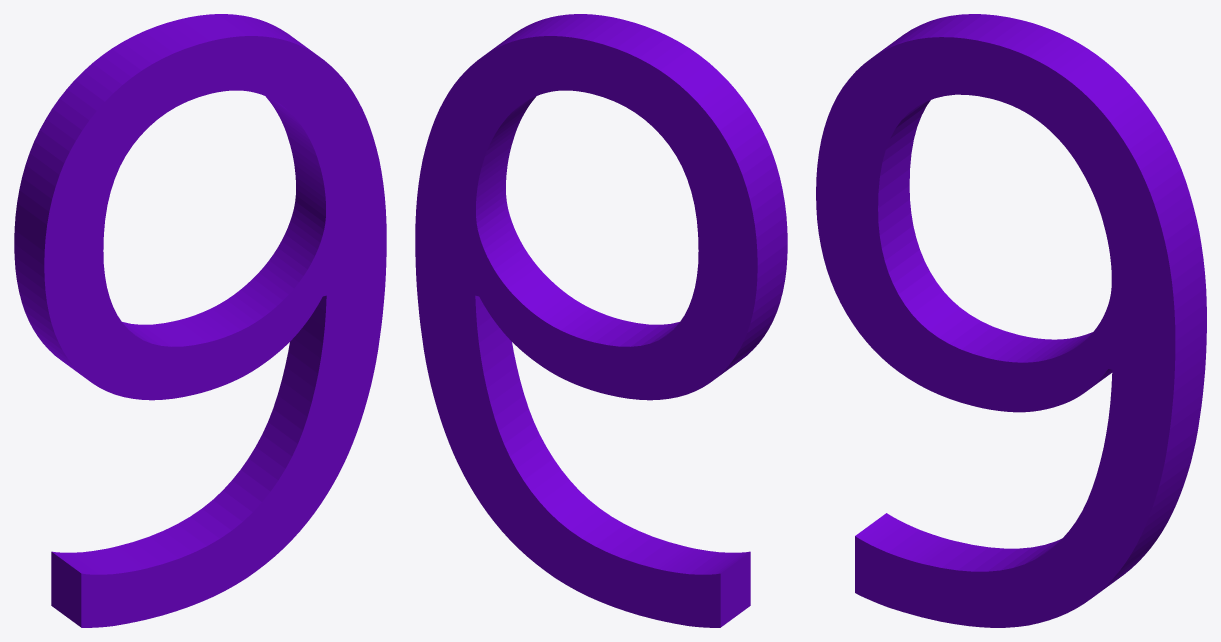
The model's file is 3d-number-9.glb.
The picture shows the model from 3 angles, left to right: view 1: azimuth 30°, elevation 25°; view 2: azimuth 150°, elevation 25°; view 3: azimuth 330°, elevation 25°; orthographic projection. The views are drawn at different scales.
Visible parts, largest first — view 1: Mesh_Mesh_head_geo.001_lambert2SG.001; view 2: Mesh_Mesh_head_geo.001_lambert2SG.001; view 3: Mesh_Mesh_head_geo.001_lambert2SG.001.
Part boxes in pixels (<box>): Mesh_Mesh_head_geo.001_lambert2SG.001: <box>14,14,386,627</box>; Mesh_Mesh_head_geo.001_lambert2SG.001: <box>415,14,787,627</box>; Mesh_Mesh_head_geo.001_lambert2SG.001: <box>816,14,1206,627</box>.
Bounding box in the file's own units: 0.0329 × 0.0516 × 0.005.
